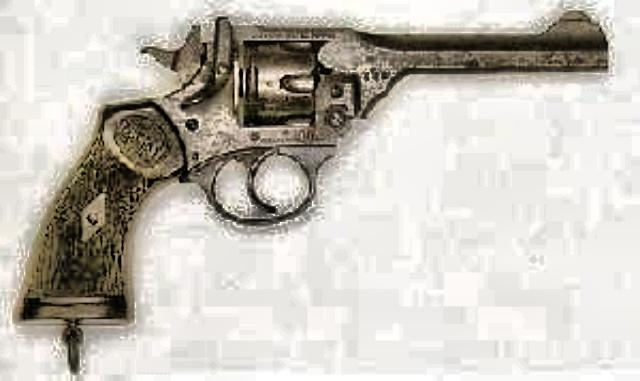pistol: (4, 6, 612, 326)
